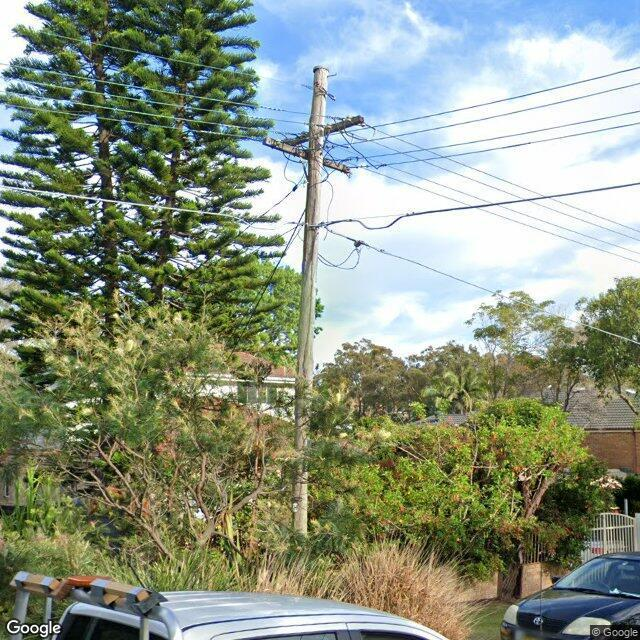crossarm: (262, 137, 353, 178), (279, 115, 365, 146)
timber-pole: (291, 67, 328, 534)
